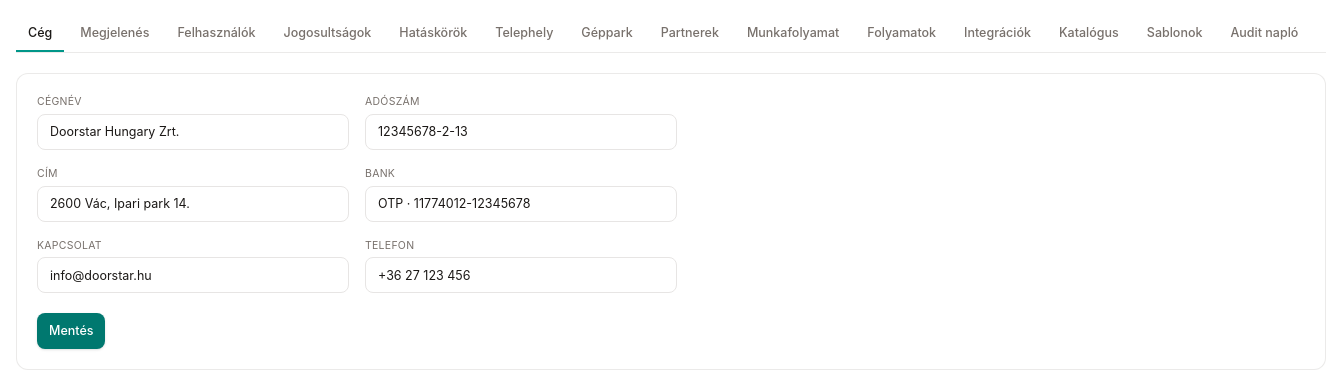
Test case: SettingsPage › shows error on fetch failure
Click the button "Felhasználók". click: (216, 34)
box: [165,16,268,52]
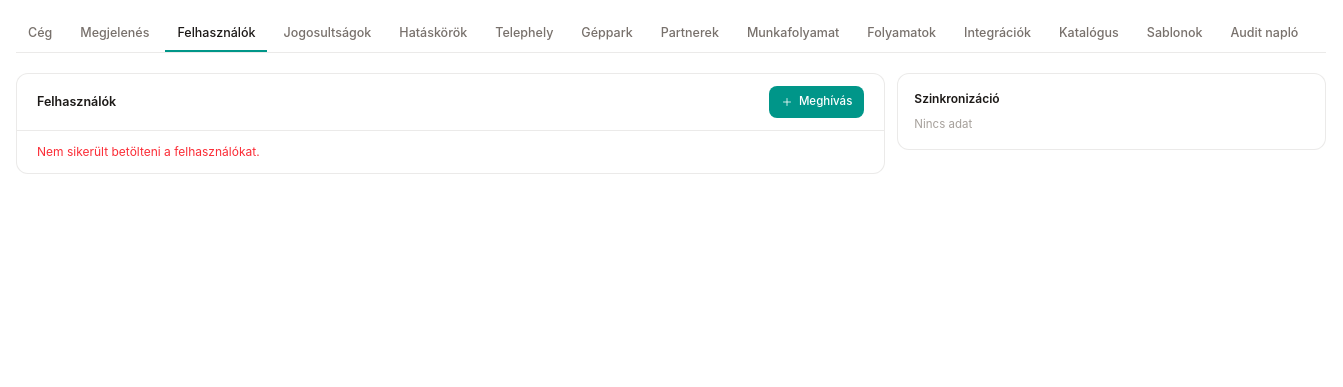
Expected: the text "Nem sikerült betölteni a felhasználókat." is shown, [37,144,260,159]
